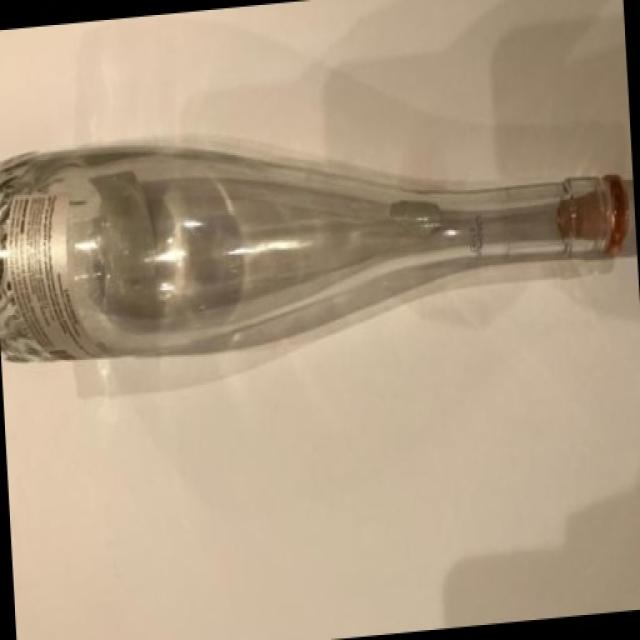vidrio: (6, 86, 640, 465)
